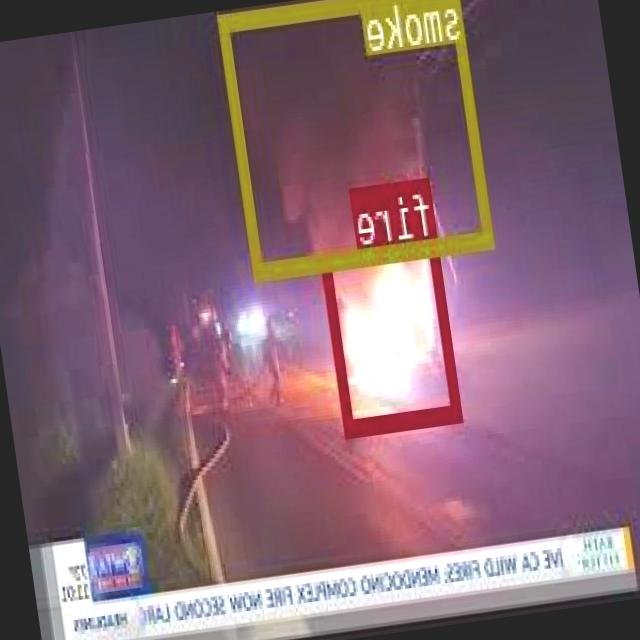fire: (322, 234, 464, 436)
smoke: (219, 0, 495, 278)
